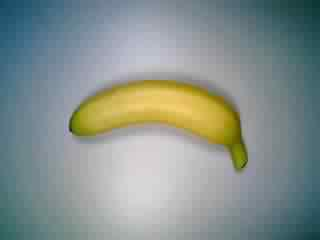banana: (67, 77, 252, 173)
